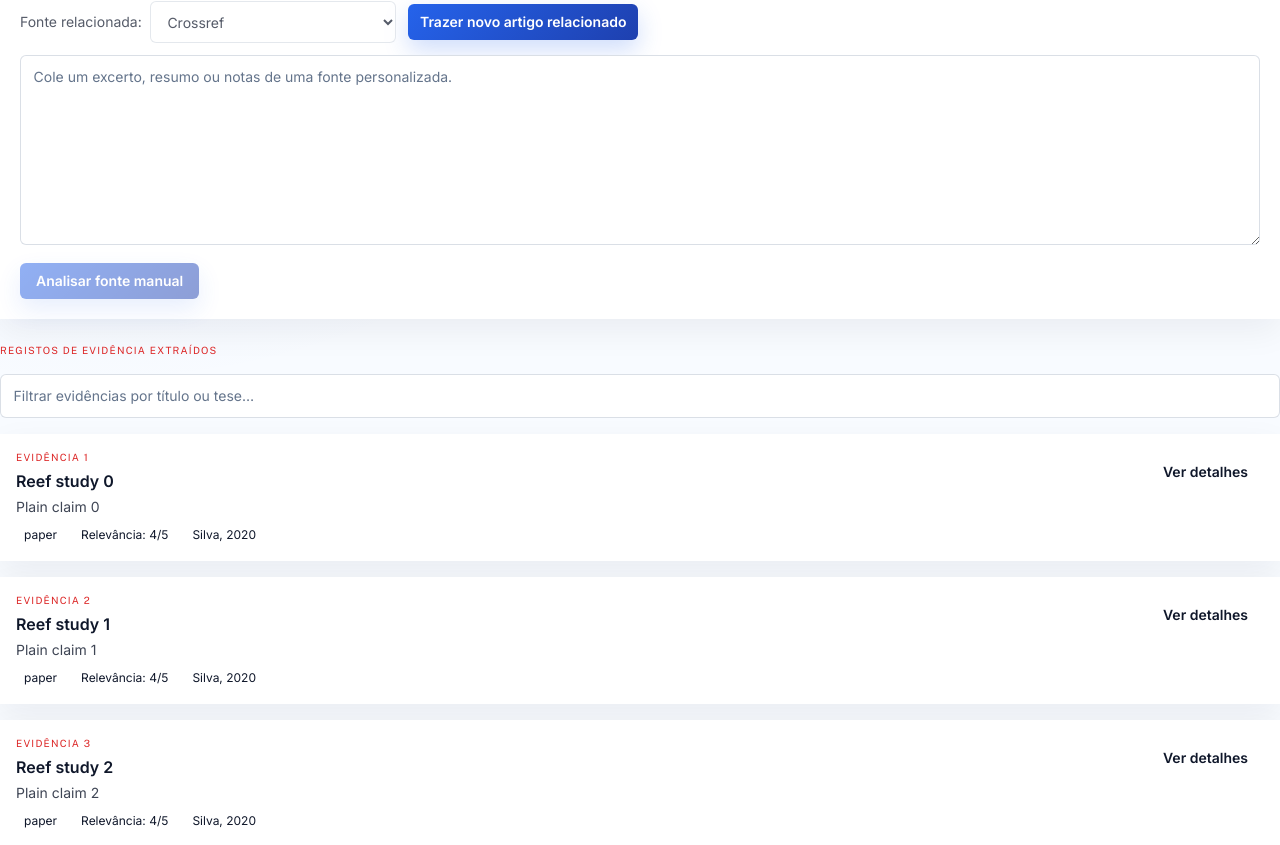
Test: Step 3 - evidence records open in a drawer › navigates only within the filtered records
The image size is (1280, 845).
(page scrolled)
Type "special" into the field with placeholder "Filtrar evidências por título ou tese…" at [640, 396], box [0,374,1279,418]
(page scrolled)
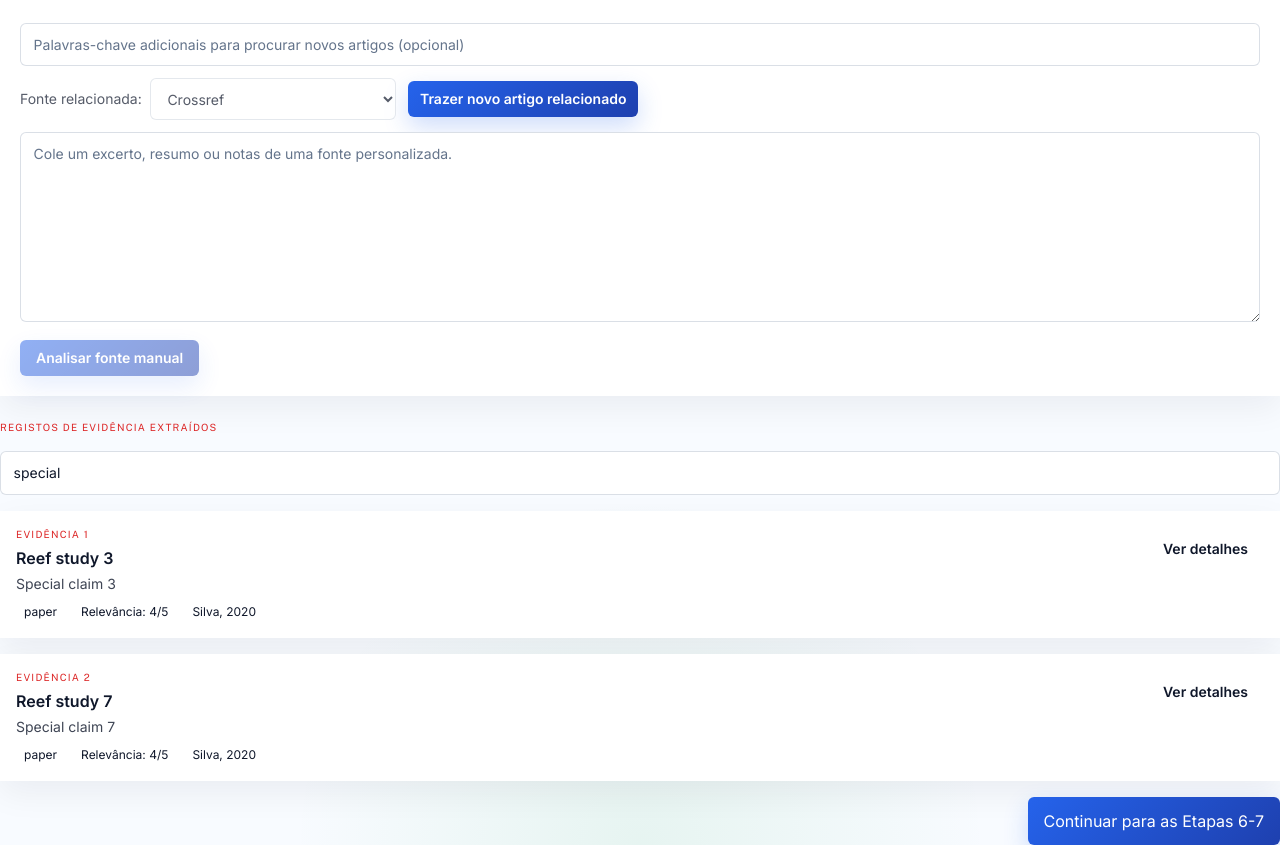
Click the button with aria-label "Ver detalhes: Reef study 3" at [1206, 548], box [1147,526,1264,570]
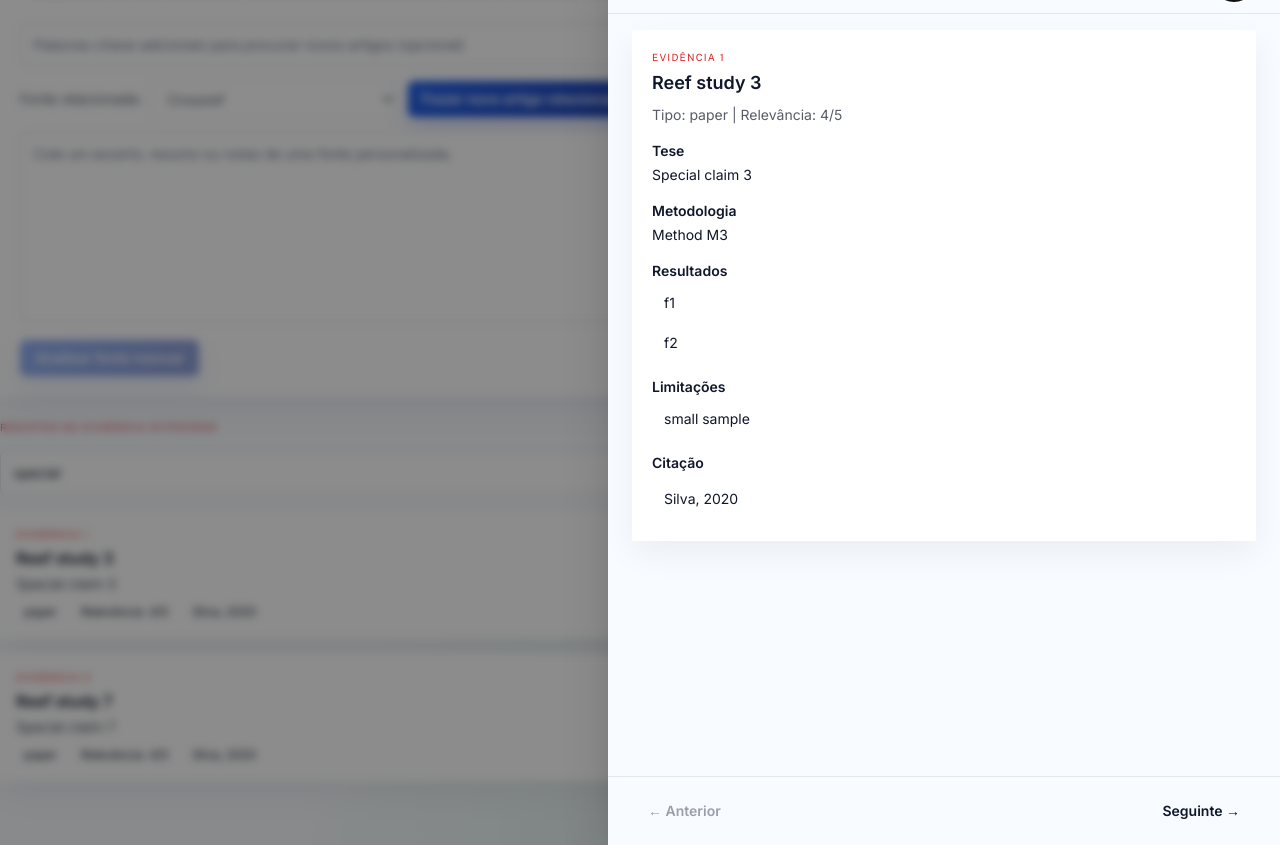
Click the button "Seguinte →" at [1201, 811], box [1146,789,1256,833]
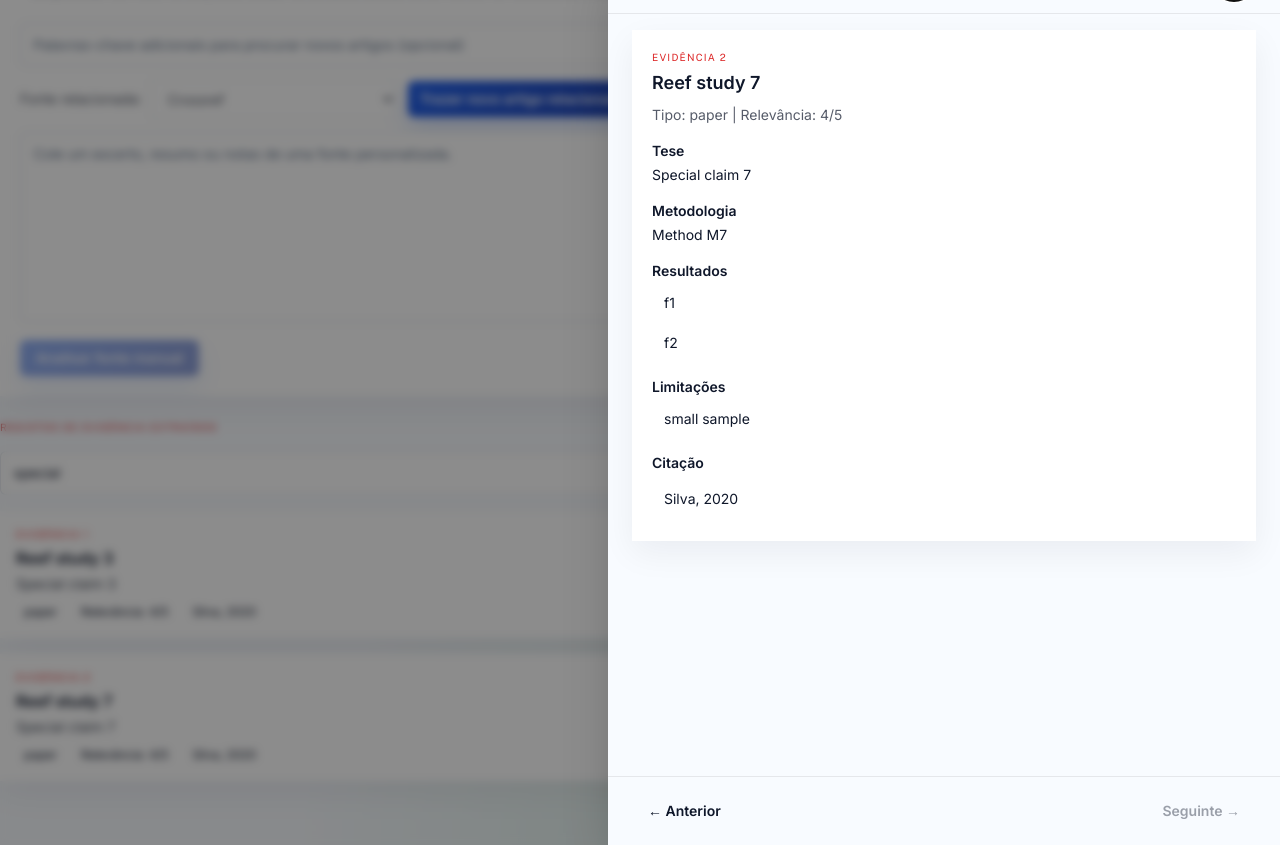
Now the text "Method M7" is shown, box [652,226,727,243]
Now the button "Seguinte →" is disabled, box [1146,789,1256,833]
